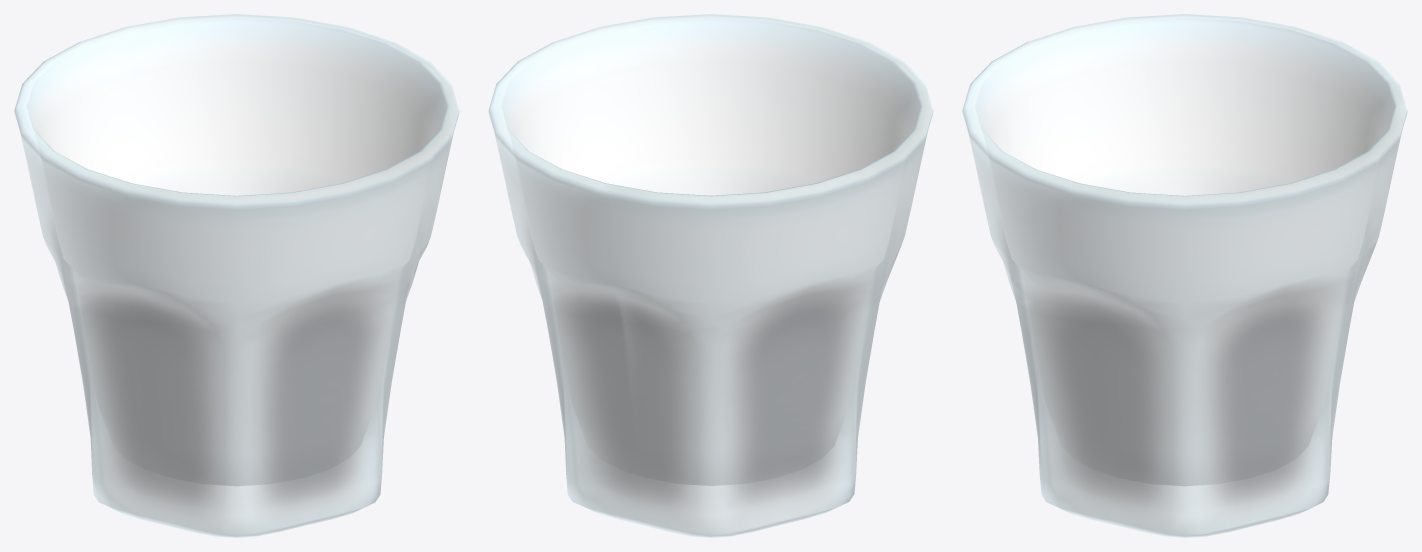
File: glass.glb
3 views of the same model, side by side, from view 1: azimuth 30°, elevation 25°; view 2: azimuth 150°, elevation 25°; view 3: azimuth 270°, elevation 25° (orthographic).
Visible parts, largest first — view 1: rocks_low_lambert1_0.001; view 2: rocks_low_lambert1_0.001; view 3: rocks_low_lambert1_0.001.
Part boxes in pixels (<box>): rocks_low_lambert1_0.001: <box>14,14,459,537</box>; rocks_low_lambert1_0.001: <box>488,14,933,537</box>; rocks_low_lambert1_0.001: <box>962,14,1407,537</box>.
Size of the model in its own units: 0.0616 by 0.0561 by 0.0613.
Materials: 1 (1 with a texture image).
